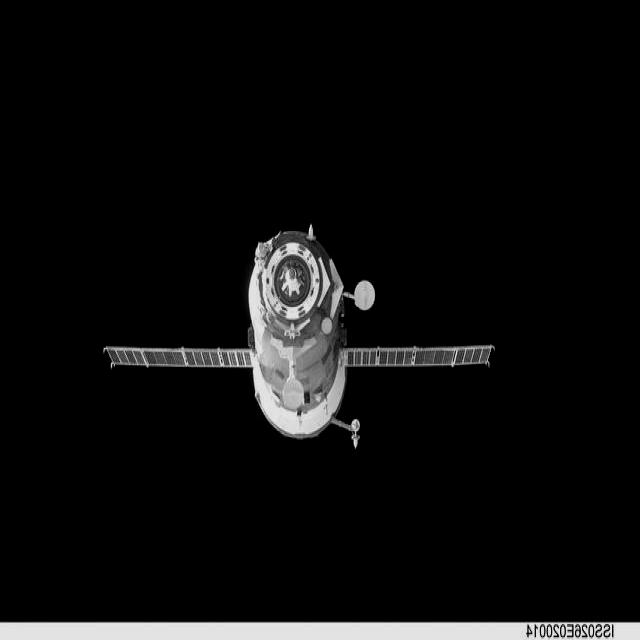medium_debris: (104, 226, 494, 447)
